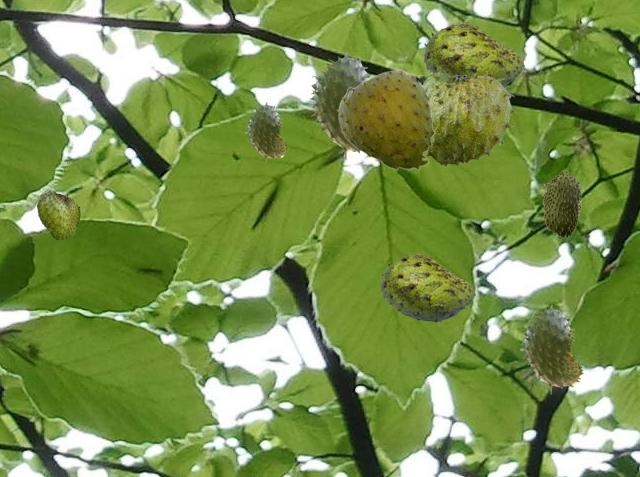guyabano: (336, 69, 434, 171), (417, 67, 515, 165), (308, 52, 371, 159), (423, 23, 523, 87), (380, 254, 474, 321), (520, 305, 582, 393), (541, 168, 582, 237), (245, 102, 287, 162), (37, 189, 79, 239)
